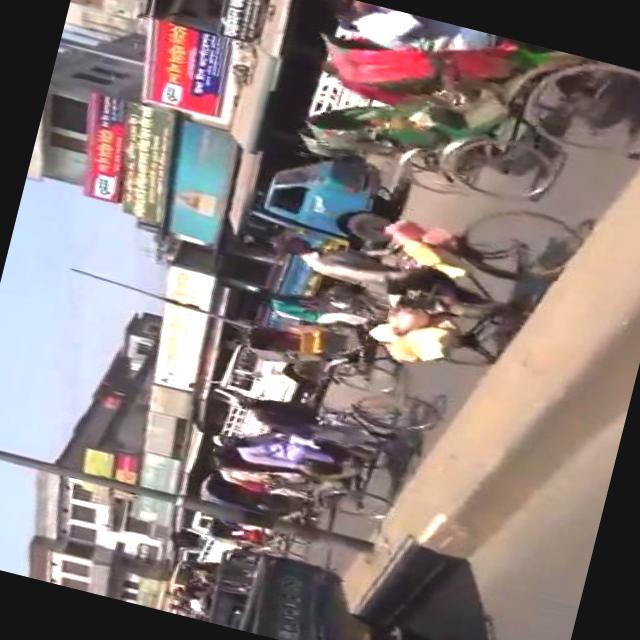motorcycle: (299, 0, 640, 175), (196, 352, 440, 532), (290, 62, 571, 212), (230, 260, 416, 400), (188, 469, 331, 543)
truck: (228, 143, 402, 353), (183, 533, 427, 640), (204, 340, 330, 462), (176, 508, 256, 577)
